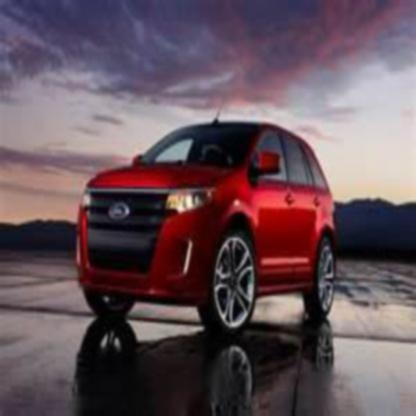Vehicle: (74, 89, 340, 338)
